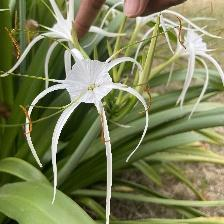spider lily: (24, 47, 152, 224)
